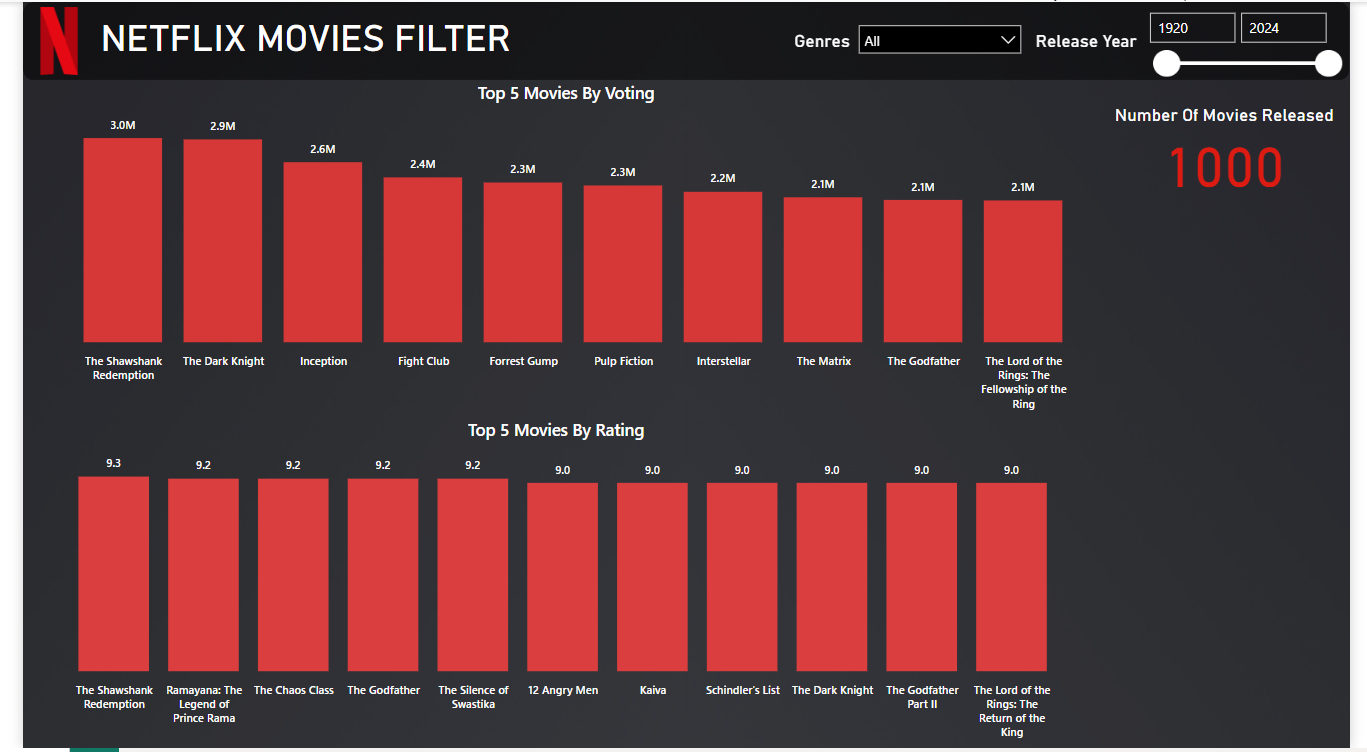

Layout of this report page (visuals, bound fields, positions):
{"tool":"powerbi","page":{"name":"Page 1","canvas":[1280,720],"ordinal":0},"visuals":[{"type":"columnChart","title":"Top 5 Movies By Voting","fields":{"Category":["netflix movie data.title"],"Y":["Sum(netflix movie data.numVotes)"]},"box":[0,75.5,1048.4,326.6],"z":0},{"type":"columnChart","title":"Top 5 Movies By Rating","fields":{"Category":["netflix movie data.title"],"Y":["Sum(netflix movie data.averageRating)"]},"box":[0,402.1,1029.2,318.4],"z":1000},{"type":"shape","box":[0,0,1280.3,75.5],"z":2000},{"type":"textbox","title":"NETFLIX MOVIES FILTER","box":[70,13.7,419.9,50.8],"z":3000},{"type":"image","box":[0,0,70,75.5],"z":4000},{"type":"slicer","fields":{"Values":["netflix movie data.releaseYear"]},"box":[1074.4,0,205.8,75.5],"z":5000},{"type":"textbox","title":"Release Year","box":[972.9,27.4,111.1,22],"z":6000},{"type":"slicer","fields":{"Values":["netflix movie data.genres"]},"box":[795.9,12.3,177,50.8],"z":7000},{"type":"textbox","title":"Genres","box":[739.6,27.4,71.4,22],"z":8000},{"type":"card","title":"Number Of Movies Released","fields":{"Values":["CountNonNull(netflix movie data.id)"]},"box":[1048.4,98.8,222.3,87.8],"z":9000}]}

Visuals, with their boxes in screenshot pixels (x1, y1, x2, y2), scaled from the page's 1280x720 canvas onto the 1367x752 screenshot:
"Top 5 Movies By Voting" columnChart: {"left": 0, "top": 79, "right": 1120, "bottom": 420}
"Top 5 Movies By Rating" columnChart: {"left": 0, "top": 420, "right": 1099, "bottom": 751}
shape: {"left": 0, "top": 0, "right": 1366, "bottom": 79}
"NETFLIX MOVIES FILTER" textbox: {"left": 75, "top": 14, "right": 523, "bottom": 67}
image: {"left": 0, "top": 0, "right": 75, "bottom": 79}
slicer - netflix movie data.releaseYear: {"left": 1147, "top": 0, "right": 1366, "bottom": 79}
"Release Year" textbox: {"left": 1039, "top": 29, "right": 1158, "bottom": 52}
slicer - netflix movie data.genres: {"left": 850, "top": 13, "right": 1039, "bottom": 66}
"Genres" textbox: {"left": 790, "top": 29, "right": 866, "bottom": 52}
"Number Of Movies Released" card: {"left": 1120, "top": 103, "right": 1357, "bottom": 195}
